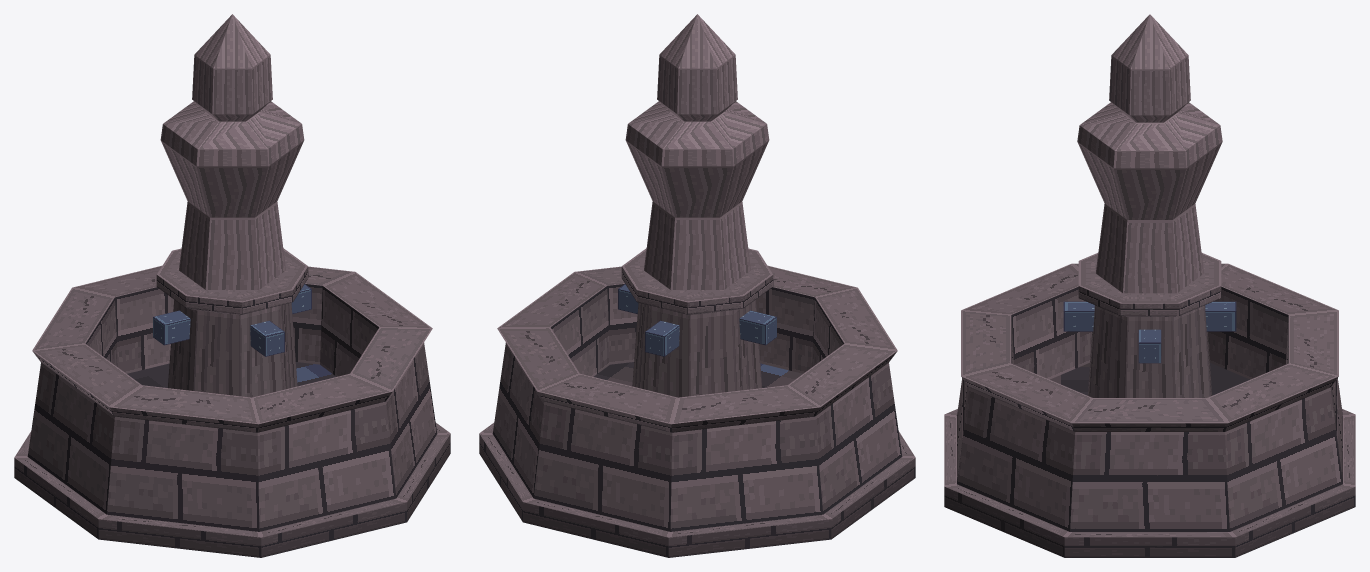
The model's file is brunnen_a3_verbraucht.glb.
The picture shows the model from 3 angles, left to right: view 1: azimuth 30°, elevation 25°; view 2: azimuth 150°, elevation 25°; view 3: azimuth 270°, elevation 25°; orthographic projection.
Visible parts, largest first — view 1: body, figure, pedestal, spouts; view 2: body, figure, pedestal, spouts; view 3: body, figure, pedestal, spouts.
Part boxes in pixels (x1=…): body: x1=14, y1=265, x2=450, y2=557; figure: x1=160, y1=14, x2=304, y2=289; pedestal: x1=156, y1=248, x2=308, y2=397; spouts: x1=153, y1=284, x2=311, y2=356; body: x1=479, y1=265, x2=915, y2=557; figure: x1=625, y1=14, x2=769, y2=289; pedestal: x1=621, y1=248, x2=773, y2=397; spouts: x1=618, y1=284, x2=776, y2=356; body: x1=944, y1=263, x2=1355, y2=557; figure: x1=1077, y1=14, x2=1222, y2=293; pedestal: x1=1078, y1=253, x2=1221, y2=397; spouts: x1=1063, y1=301, x2=1236, y2=363.
Size of the model in its own units: 1.81 by 2.22 by 1.81.
4 materials, 4 textured.
